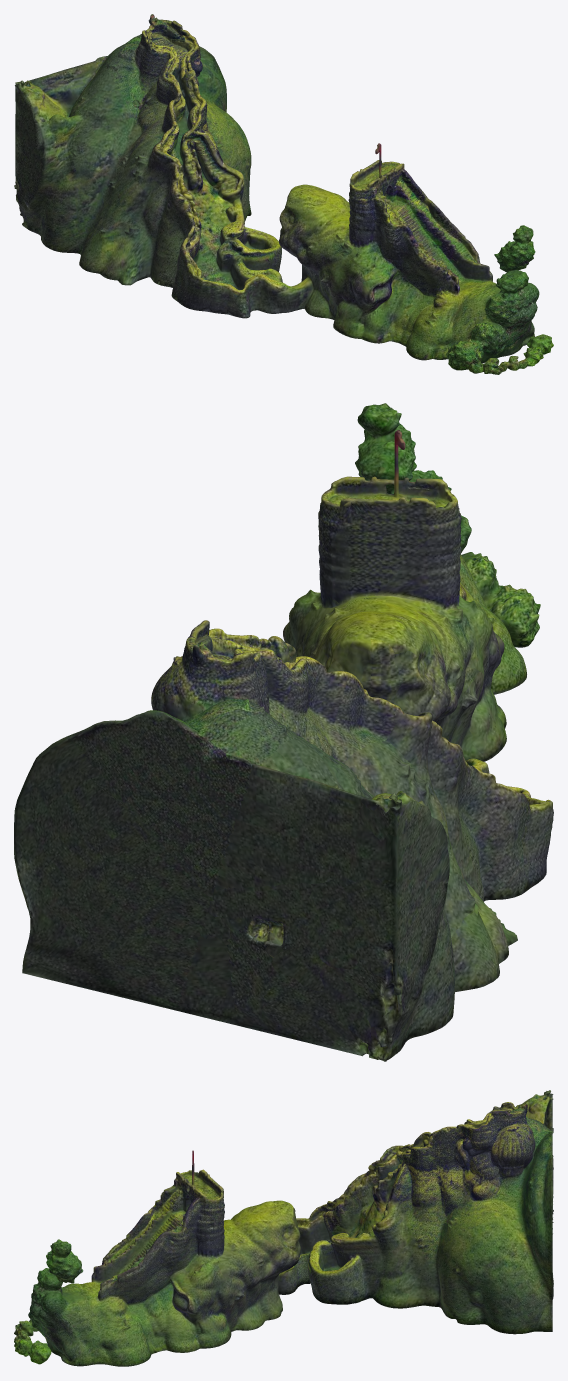
File: torna.glb
3 renders of one model, top to bottom at view 1: azimuth 30°, elevation 25°; view 2: azimuth 150°, elevation 25°; view 3: azimuth 270°, elevation 25°, orthographic. The views are drawn at different scales.
Parts seen in each view (by area): view 1: tripo_node_fb241666-650d-4a4a-ba9f-0a5f693f58b8; view 2: tripo_node_fb241666-650d-4a4a-ba9f-0a5f693f58b8; view 3: tripo_node_fb241666-650d-4a4a-ba9f-0a5f693f58b8.
Boxes of the visible parts, x1=… form: tripo_node_fb241666-650d-4a4a-ba9f-0a5f693f58b8: x1=14, y1=14, x2=553, y2=374; tripo_node_fb241666-650d-4a4a-ba9f-0a5f693f58b8: x1=14, y1=403, x2=553, y2=1061; tripo_node_fb241666-650d-4a4a-ba9f-0a5f693f58b8: x1=14, y1=1090, x2=553, y2=1366.
Bounding box in the file's own units: 0.5795 × 0.3802 × 0.9802.
Materials: 1 (1 with a texture image).
